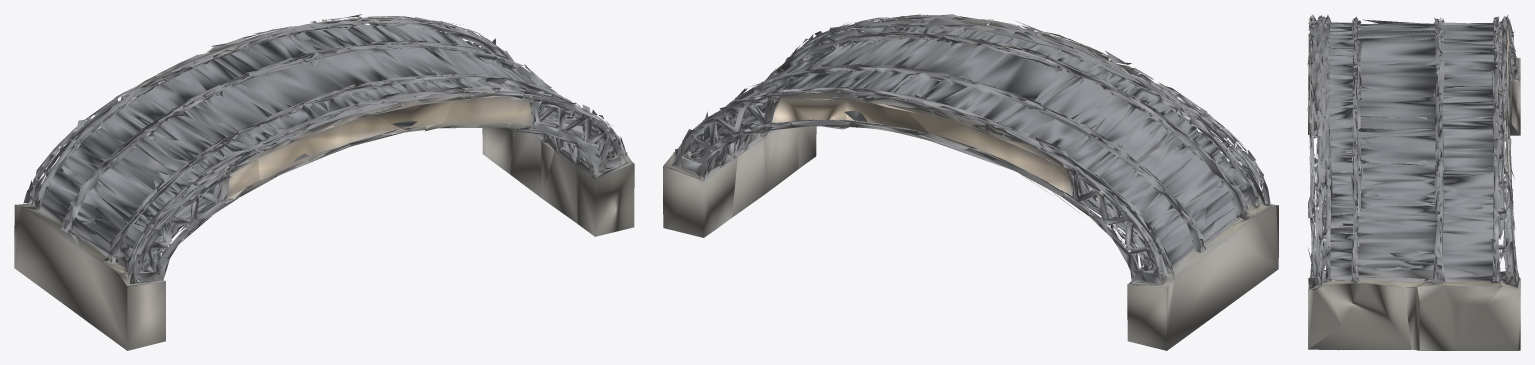
File: portal_arch.glb
3 renders of one model, left to right at view 1: azimuth 30°, elevation 25°; view 2: azimuth 150°, elevation 25°; view 3: azimuth 270°, elevation 25°, orthographic. The views are drawn at different scales.
Parts seen in each view (by area): view 1: LO.001; view 2: LO.001; view 3: LO.001.
Boxes of the visible parts, x1,y1,x2,y2 form: LO.001: (14, 14, 634, 350); LO.001: (663, 14, 1278, 350); LO.001: (1307, 14, 1520, 350).
Size of the model in its own units: 26.02 by 9.07 by 10.03.
Materials: 1 (1 with a texture image).
